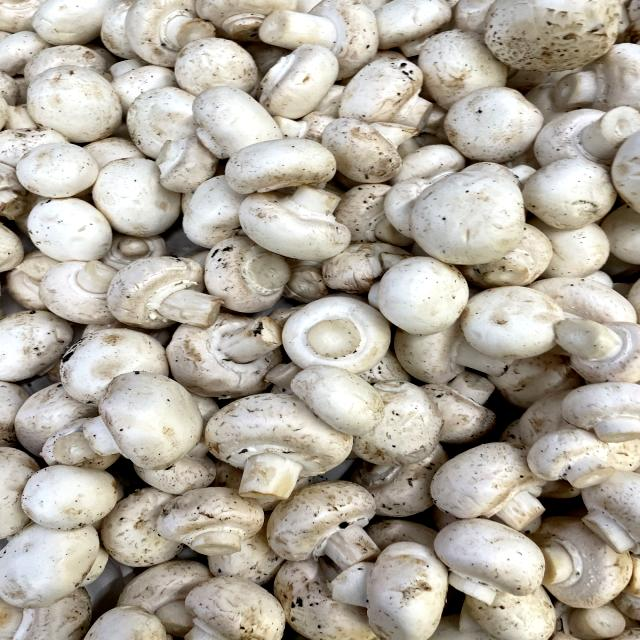mushroom: (196, 379, 360, 503), (400, 164, 544, 267), (420, 506, 559, 609), (420, 431, 557, 534), (75, 362, 208, 467), (259, 469, 393, 572), (232, 171, 365, 265), (256, 0, 388, 84), (98, 253, 234, 332), (335, 48, 449, 135), (155, 480, 269, 561)
